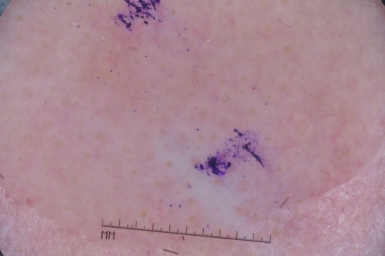seborrheic keratosis: (122, 77, 290, 213)
